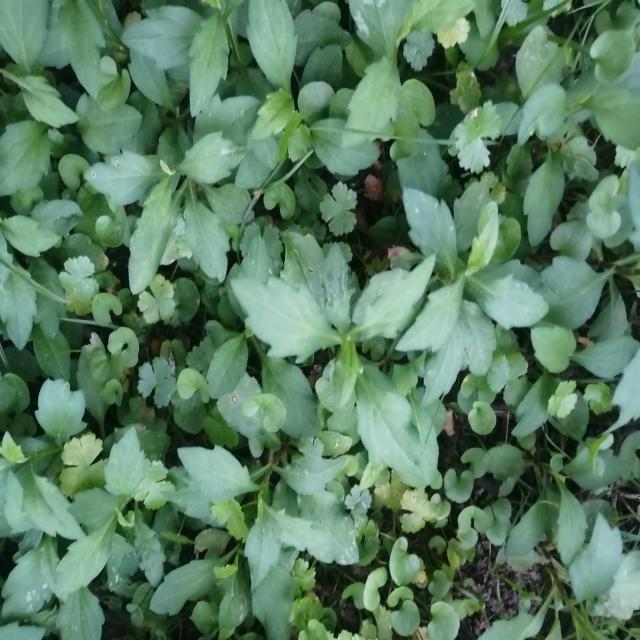Indian aster: (248, 260, 462, 478), (404, 178, 556, 394)
